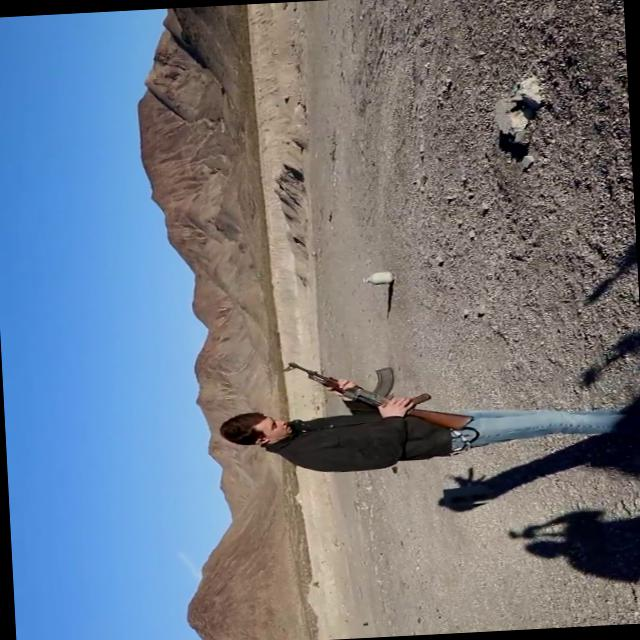long weapon: (284, 346, 470, 438)
